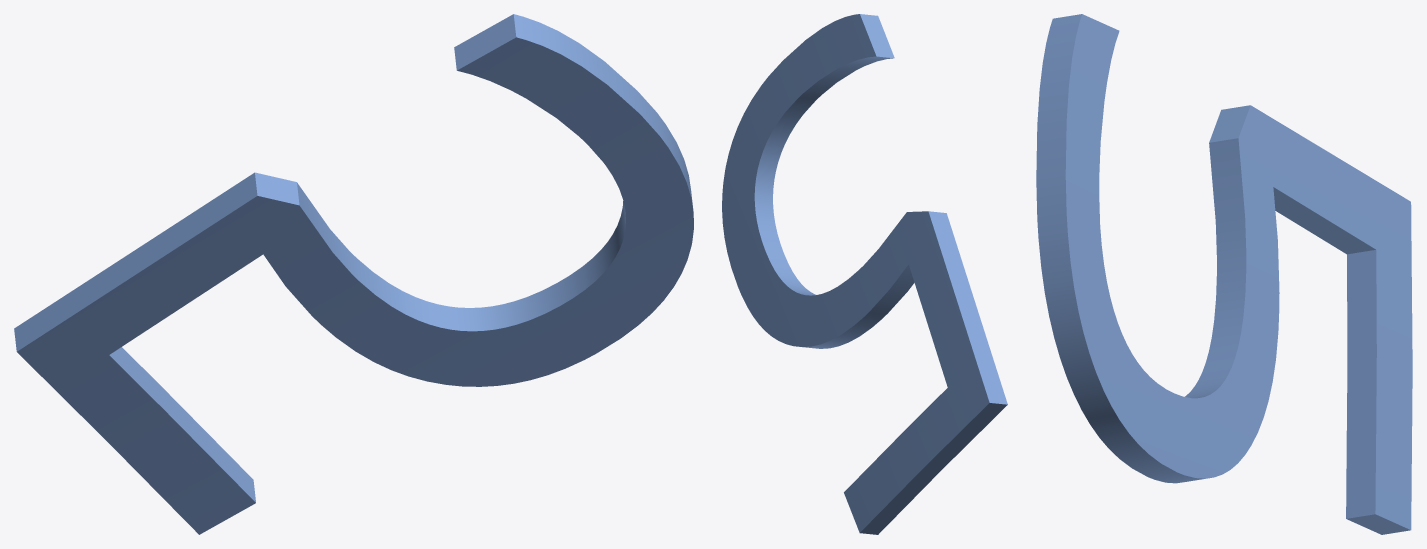
Rendered from Number_5.gltf.
3 renders of one model, left to right at view 1: azimuth 30°, elevation 25°; view 2: azimuth 150°, elevation 25°; view 3: azimuth 270°, elevation 25°, orthographic. The views are drawn at different scales.
Visible parts, largest first — view 1: Sub_7_Cell_1_1_Number_5; view 2: Sub_7_Cell_1_1_Number_5; view 3: Sub_7_Cell_1_1_Number_5.
Part boxes in pixels (bbox=[...]): Sub_7_Cell_1_1_Number_5: bbox=[14, 14, 693, 534]; Sub_7_Cell_1_1_Number_5: bbox=[722, 14, 1007, 534]; Sub_7_Cell_1_1_Number_5: bbox=[1036, 14, 1412, 534].
Bounding box in the file's own units: 0.0236 × 0.0247 × 0.0139.
